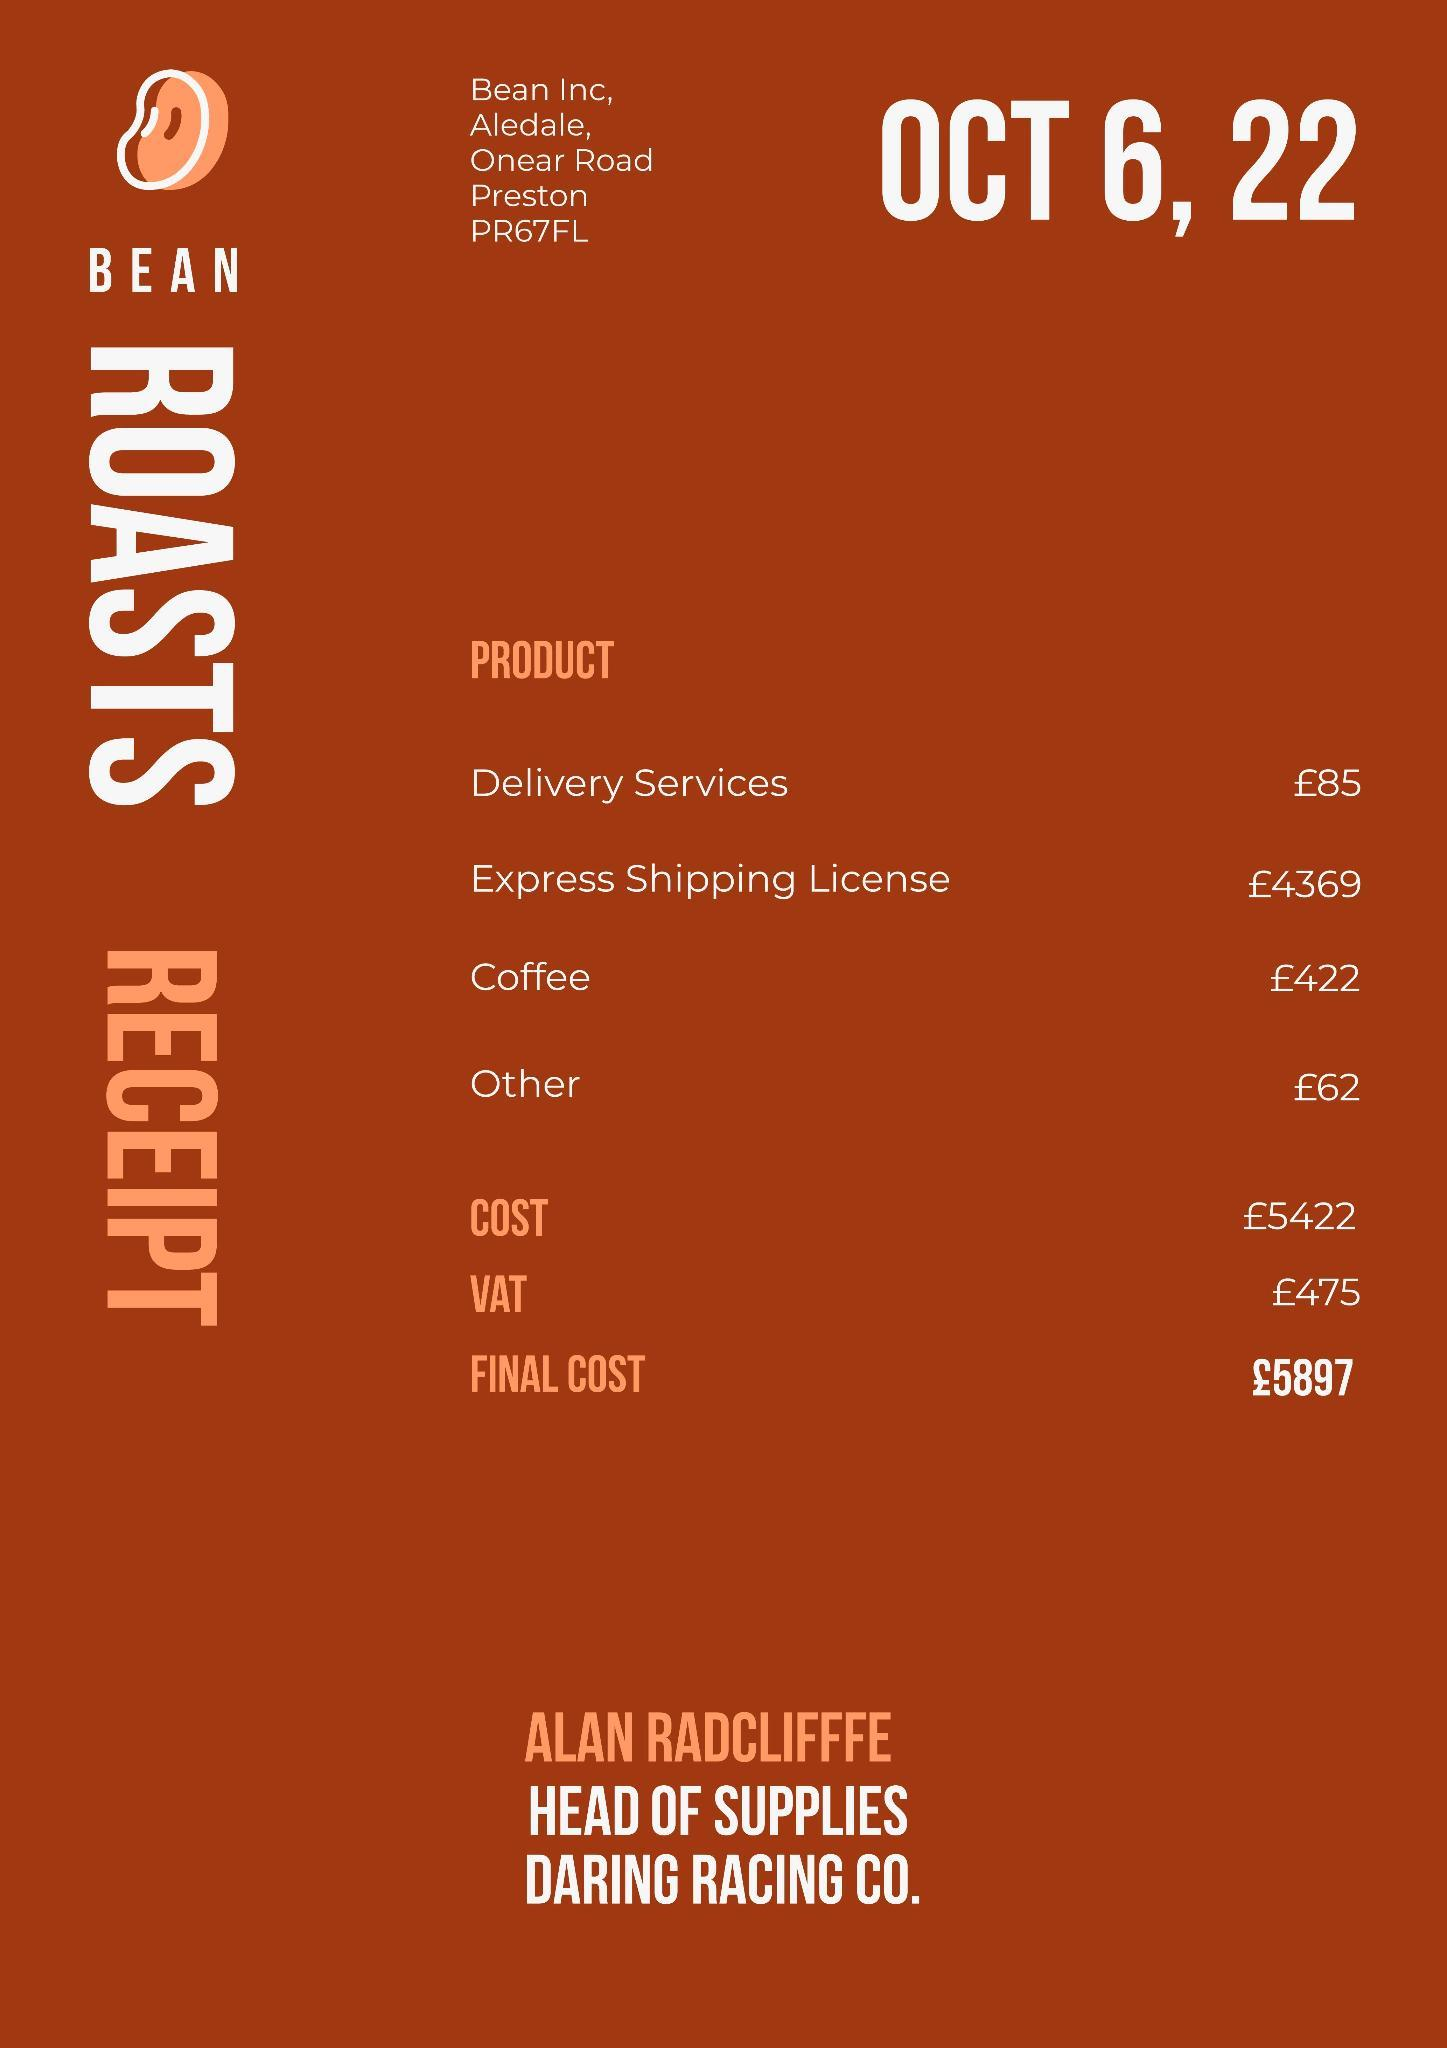ROI: (433, 621, 1408, 1127), (15, 58, 319, 1351), (432, 1168, 1388, 1440), (478, 1680, 943, 1963), (838, 61, 1388, 264), (397, 51, 681, 276)
